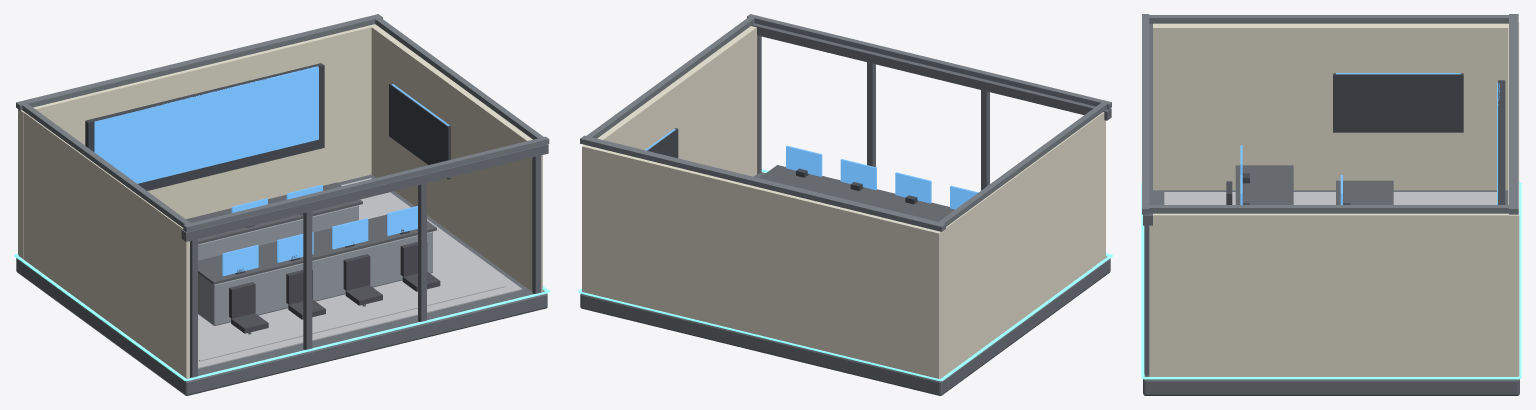
File: control_room.glb
3 renders of one model, left to right at view 1: azimuth 30°, elevation 25°; view 2: azimuth 150°, elevation 25°; view 3: azimuth 270°, elevation 25°, orthographic. The views are drawn at different scales.
Visible parts, largest first — view 1: part_wall_side_0, part_wall_back, part_wall_side_1, part_bigscreen, part_inner_floor, part_slab, part_desk_0, part_lintel, part_rim_back, part_bigscreen_frame, part_rim_front, part_desk_top_0 (+22 smaller); view 2: part_wall_back, part_wall_side_0, part_wall_side_1, part_slab, part_lintel, part_rim_back, part_rim_front, part_desk_top_0, part_rim_side_1, part_rim_side_0, part_base_outline_x1, part_mullion_2 (+7 smaller); view 3: part_wall_side_1, part_wall_side_0, part_sidescreen_frame_0, part_slab, part_rim_side_1, part_rim_side_0, part_inner_floor, part_wall_back, part_desk_top_0, part_rim_back, part_rim_front, part_desk_top_1 (+6 smaller).
Boxes of the visible parts, <box> form: part_wall_side_0: <box>23,112,189,378</box>; part_wall_back: <box>18,24,376,258</box>; part_wall_side_1: <box>370,24,542,291</box>; part_bigscreen: <box>94,66,318,183</box>; part_inner_floor: <box>198,178,522,368</box>; part_slab: <box>16,174,547,395</box>; part_desk_0: <box>198,231,432,325</box>; part_lintel: <box>181,144,548,241</box>; part_rim_back: <box>16,14,382,110</box>; part_bigscreen_frame: <box>85,63,324,190</box>; part_rim_front: <box>183,136,549,232</box>; part_desk_top_0: <box>198,214,436,284</box>; part_wall_back: <box>582,145,943,381</box>; part_wall_side_0: <box>944,112,1105,375</box>; part_wall_side_1: <box>597,26,757,176</box>; part_slab: <box>580,172,1110,395</box>; part_lintel: <box>751,23,1111,120</box>; part_rim_back: <box>580,135,945,231</box>; part_rim_front: <box>747,14,1111,109</box>; part_desk_top_0: <box>759,165,954,221</box>; part_rim_side_1: <box>583,17,754,139</box>; part_rim_side_0: <box>936,103,1106,226</box>; part_base_outline_x1: <box>578,291,941,381</box>; part_mullion_2: <box>867,62,875,167</box>; part_wall_side_1: <box>1149,213,1513,376</box>; part_wall_side_0: <box>1153,23,1508,190</box>; part_sidescreen_frame_0: <box>1333,73,1463,132</box>; part_slab: <box>1143,190,1519,395</box>; part_rim_side_1: <box>1145,205,1517,213</box>; part_rim_side_0: <box>1146,15,1515,23</box>; part_inner_floor: <box>1164,192,1496,204</box>; part_wall_back: <box>1508,23,1519,376</box>; part_desk_top_0: <box>1235,165,1293,204</box>; part_rim_back: <box>1509,14,1518,214</box>; part_rim_front: <box>1142,14,1149,214</box>; part_desk_top_1: <box>1336,180,1393,204</box>.
Size of the model in its own units: 7.65 by 3.41 by 6.25.
